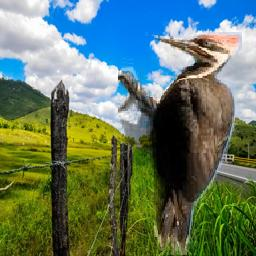Woodpecker: (118, 33, 242, 256)
